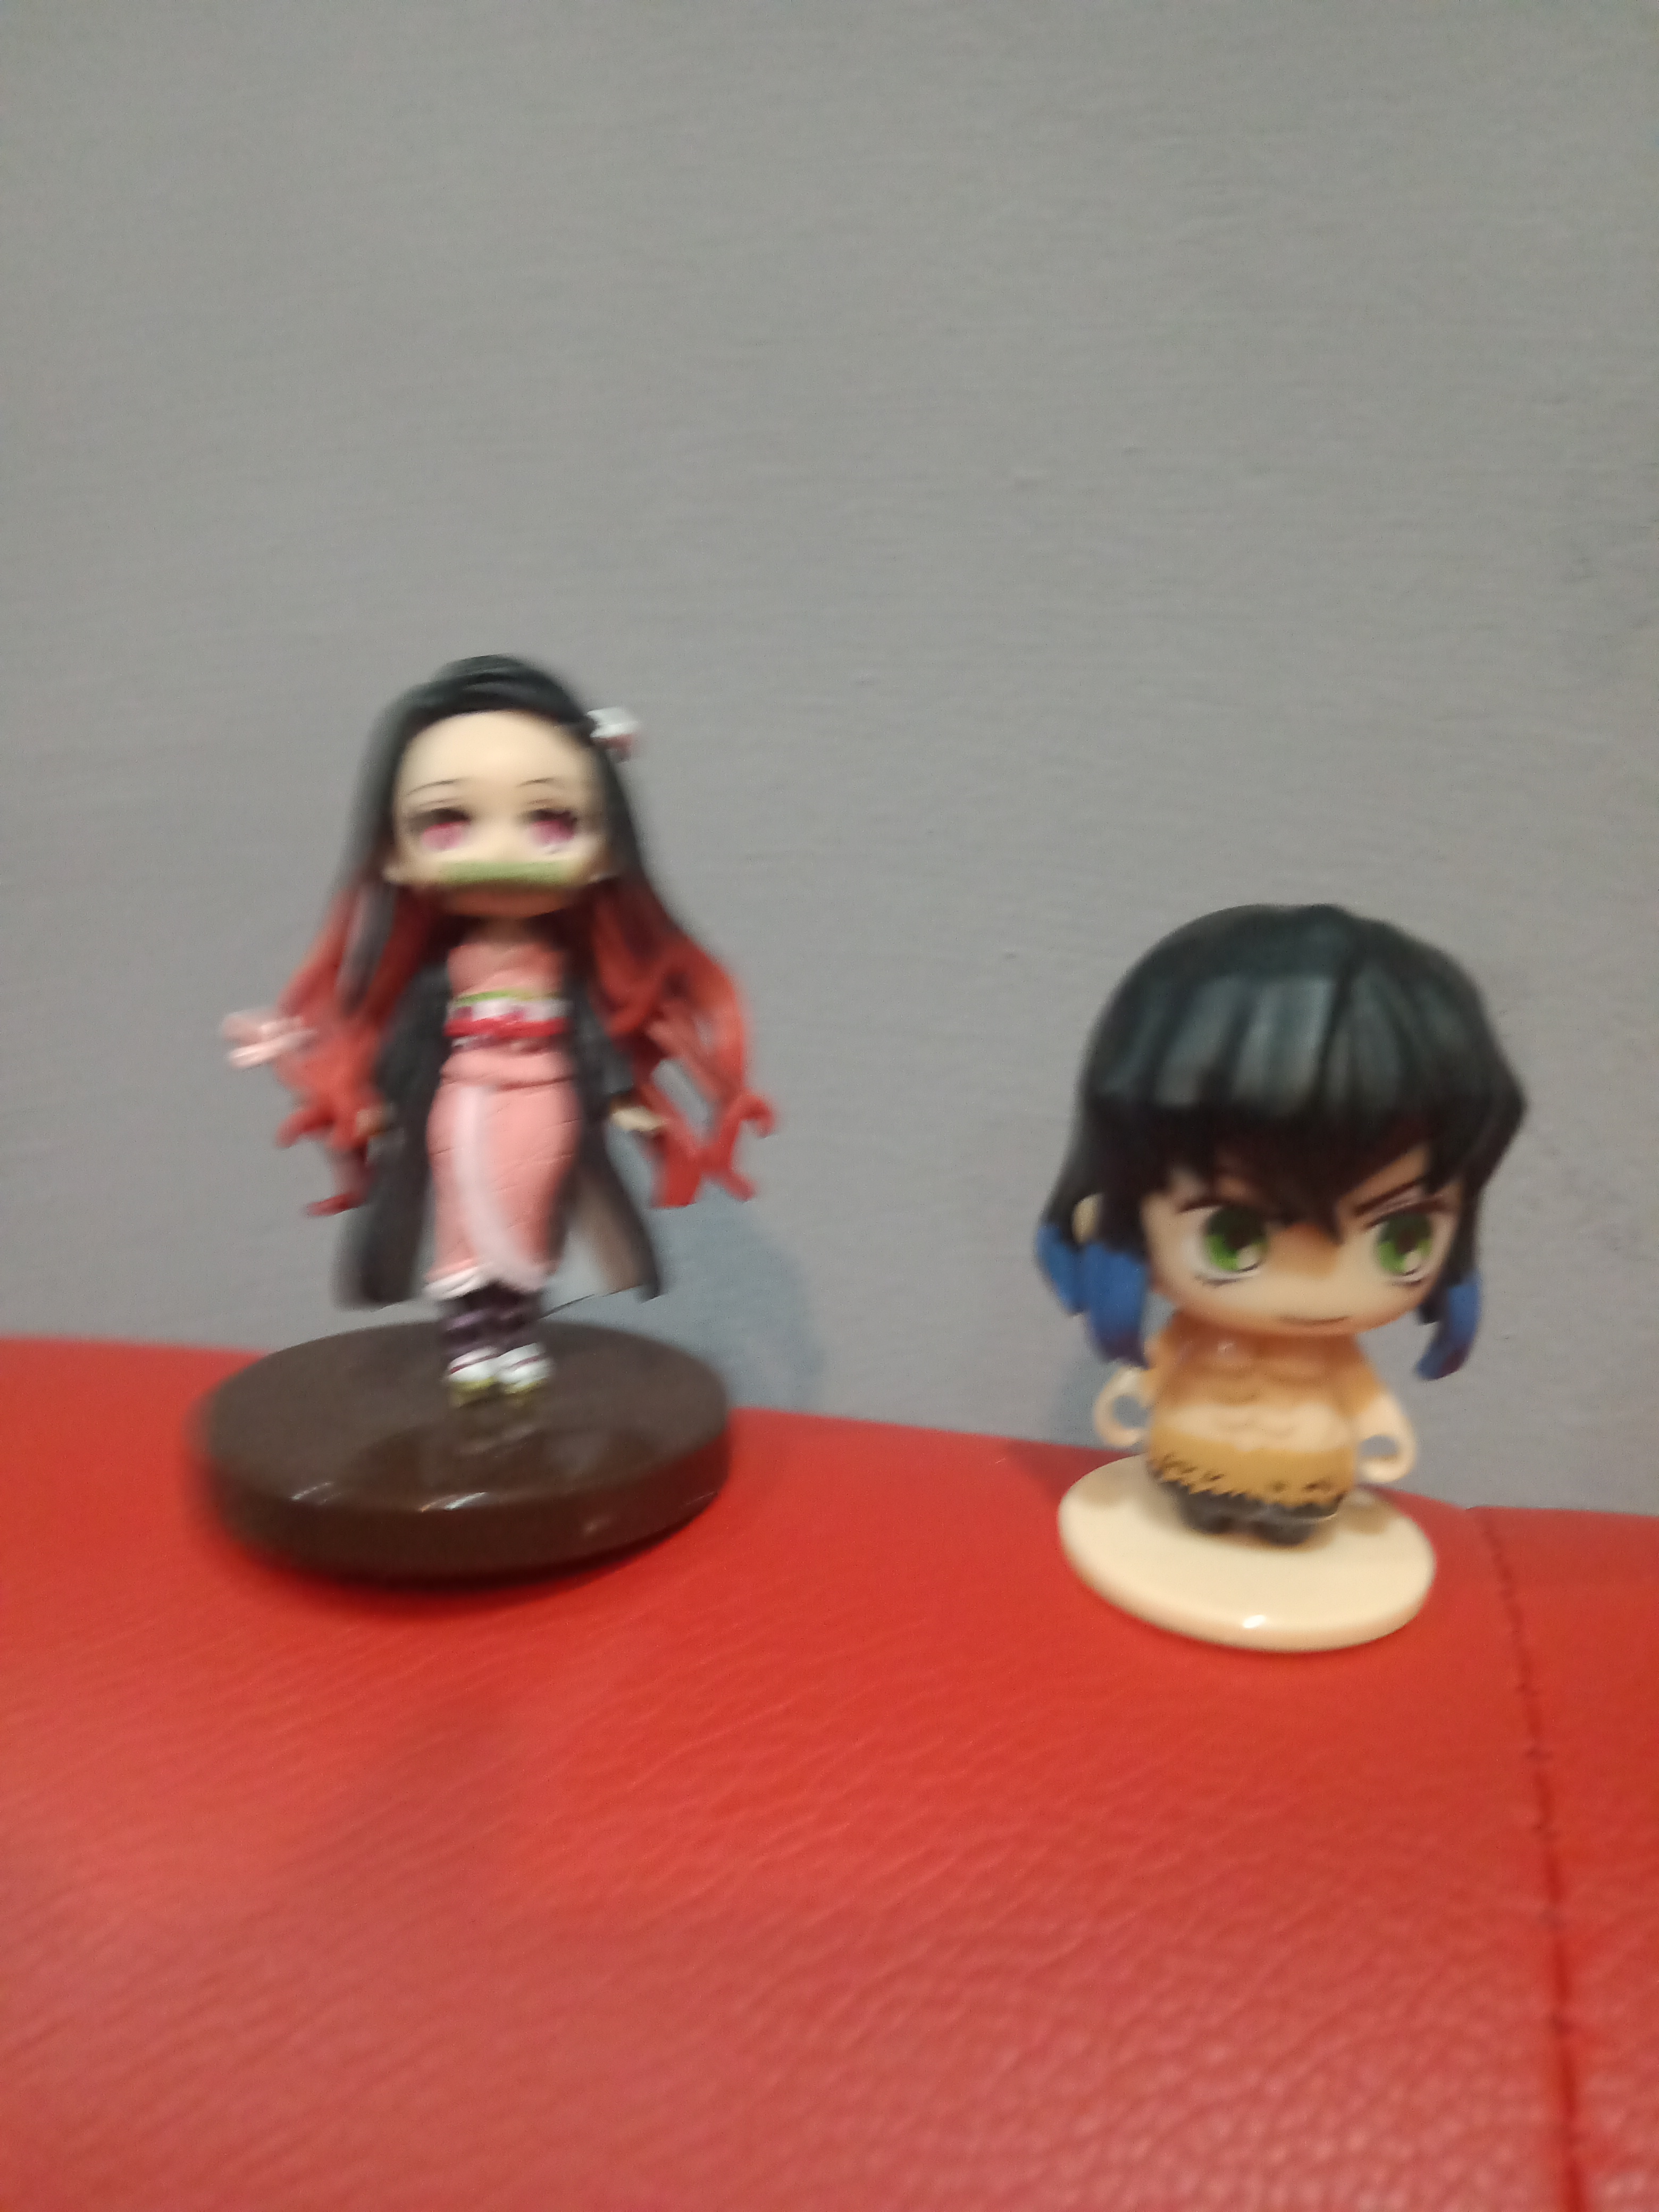Inosuke: (1011, 894, 1546, 1676)
Nezuko: (167, 637, 812, 1625)
